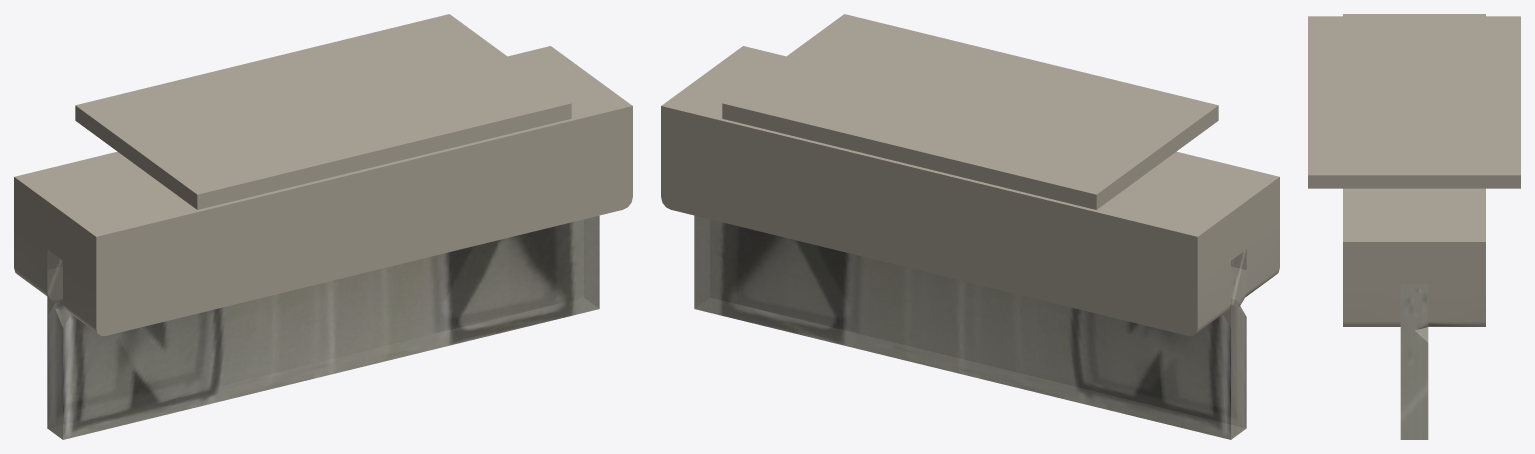
File: ceiling_sign.fbx
3 views of the same model, side by side, from view 1: azimuth 30°, elevation 25°; view 2: azimuth 150°, elevation 25°; view 3: azimuth 270°, elevation 25° (orthographic). The views are drawn at different scales.
Parts seen in each view (by area): view 1: ceiling_sign; view 2: ceiling_sign; view 3: ceiling_sign.
Boxes of the visible parts, x1,y1,x2,y2 form: ceiling_sign: [14, 14, 632, 439]; ceiling_sign: [661, 14, 1279, 439]; ceiling_sign: [1308, 14, 1520, 439].
Bounding box in the file's own units: 2.55 × 1.2 × 1.
2 materials, 1 textured.
